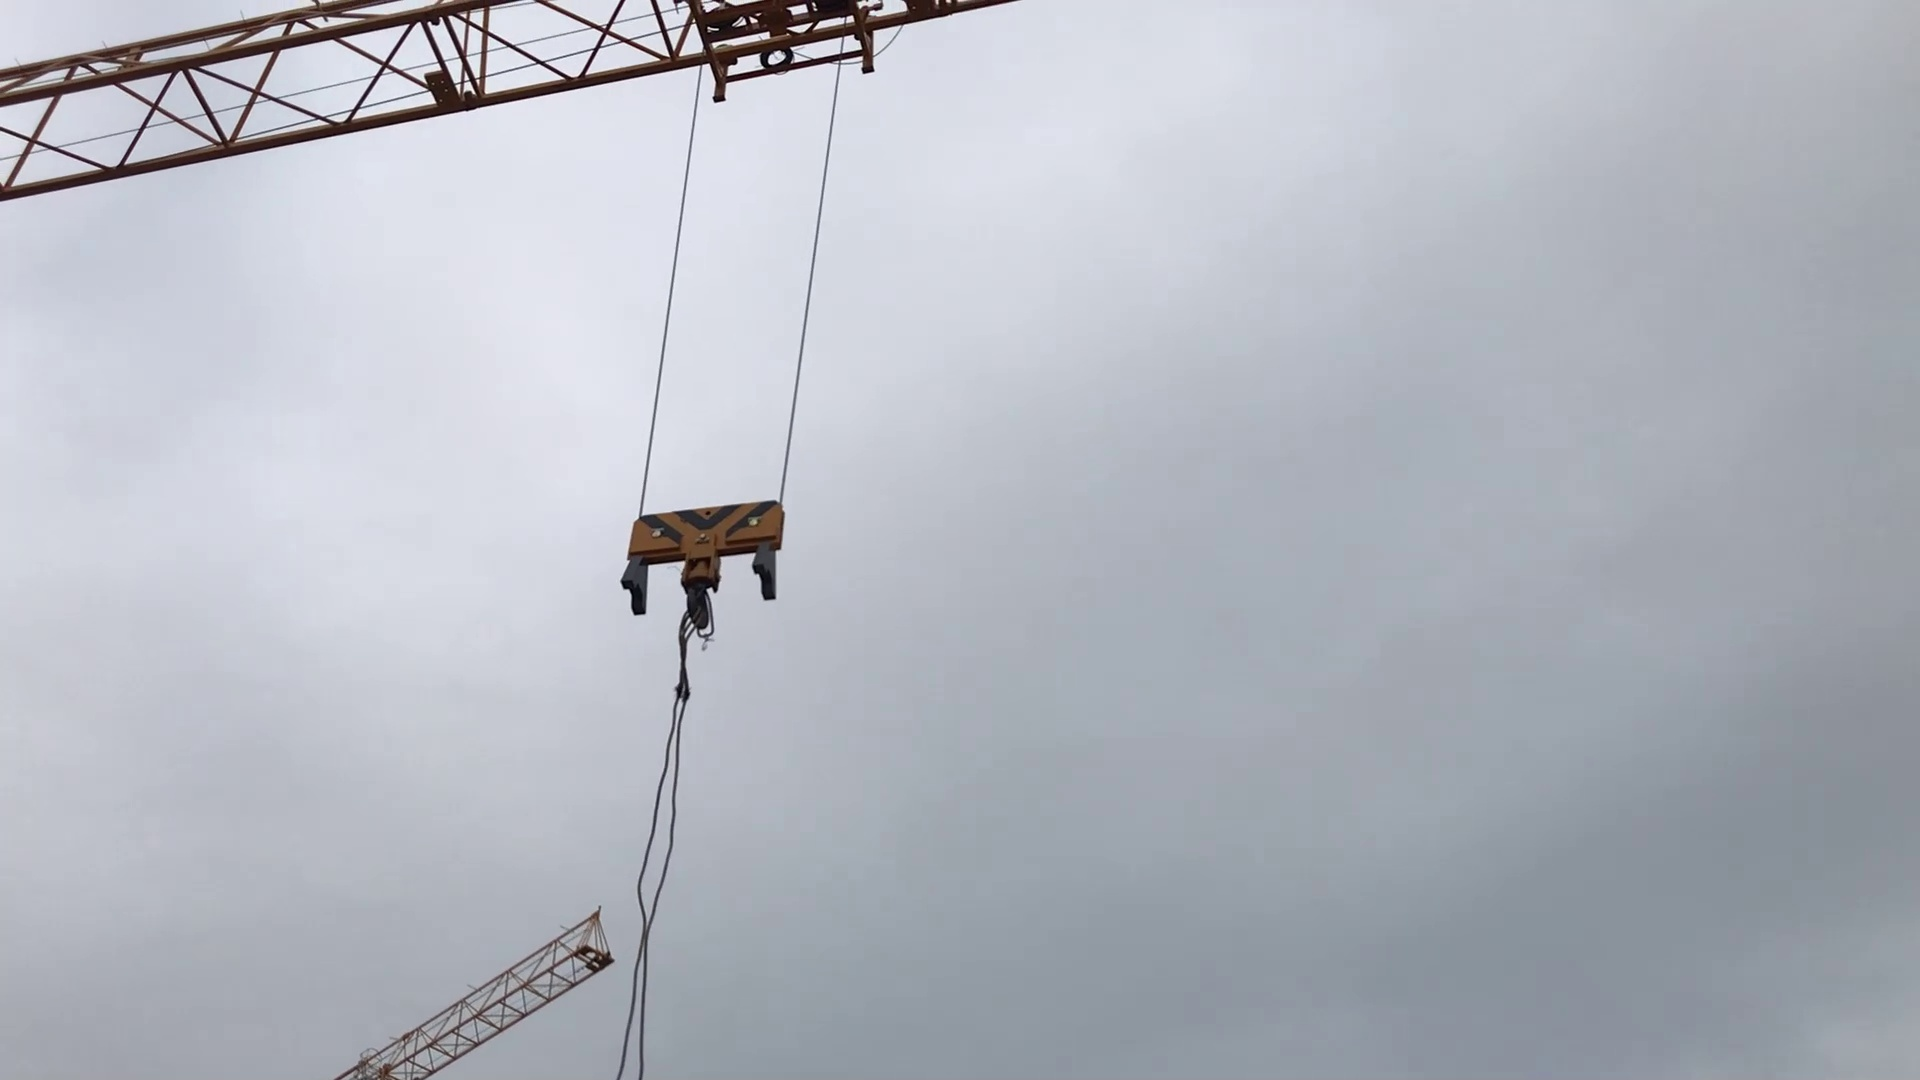hook: (612, 495, 795, 638)
